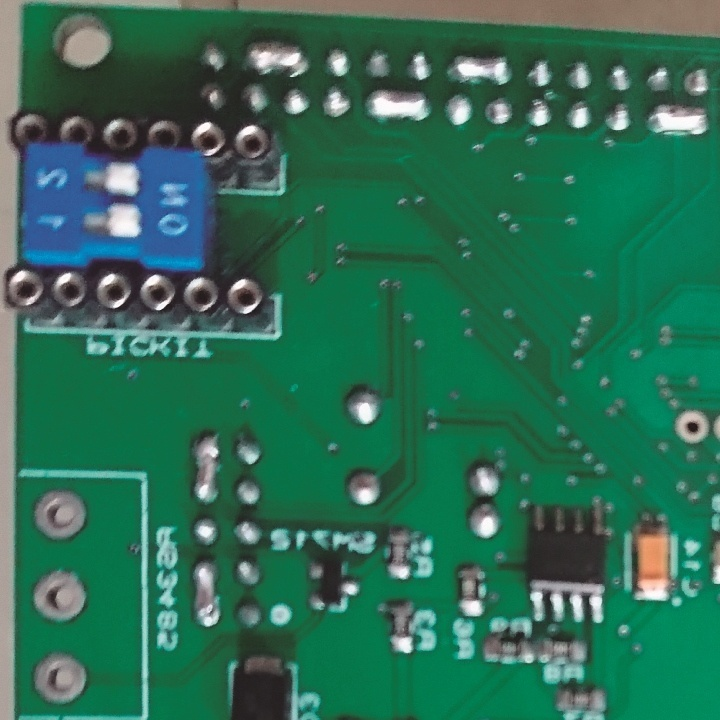F: (31, 566, 91, 628), (30, 647, 90, 706), (30, 487, 91, 543), (673, 407, 711, 445), (319, 82, 353, 120), (482, 94, 513, 129), (682, 64, 713, 96)
P: (239, 36, 310, 78), (642, 100, 710, 140), (362, 86, 430, 125), (444, 53, 513, 89), (190, 428, 219, 509), (190, 560, 221, 629)
